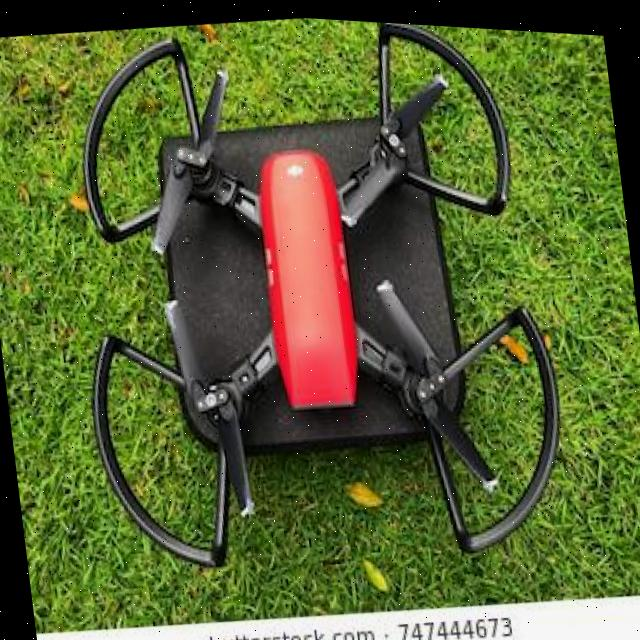drone: (0, 0, 640, 636)
